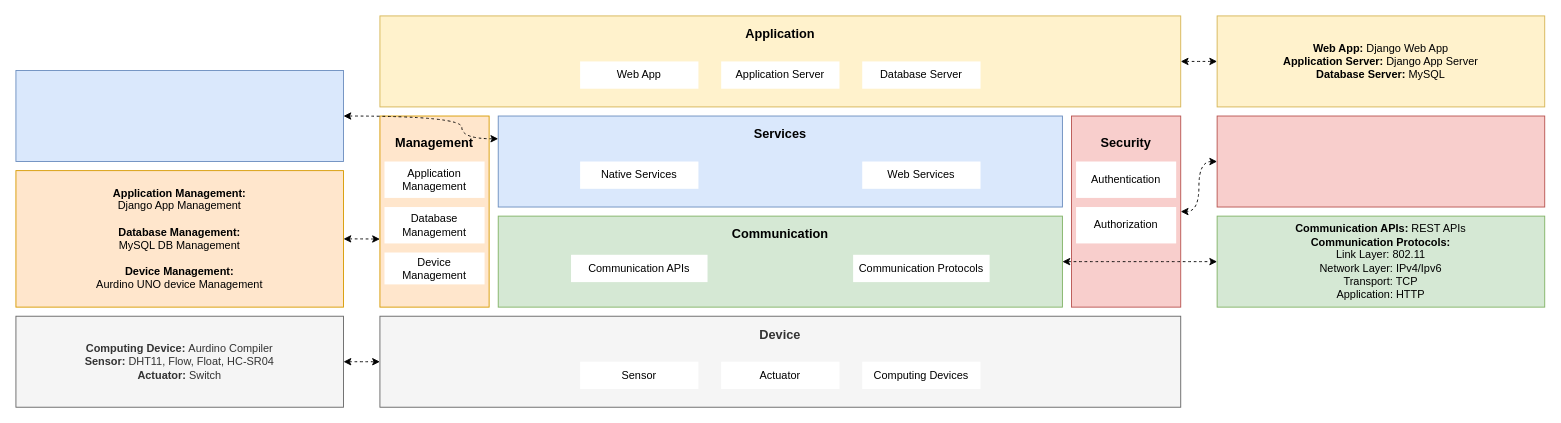
Image size: 1561x423. Some labels were removed from this diagram. Each missing label, with the centre of its shape:
"Authentication: Web App, Database Authorization: Web App, Database" goes at pixel 1380 161.
"Native service: Controller Service Web Services: State REST Service" goes at pixel 179 116.
